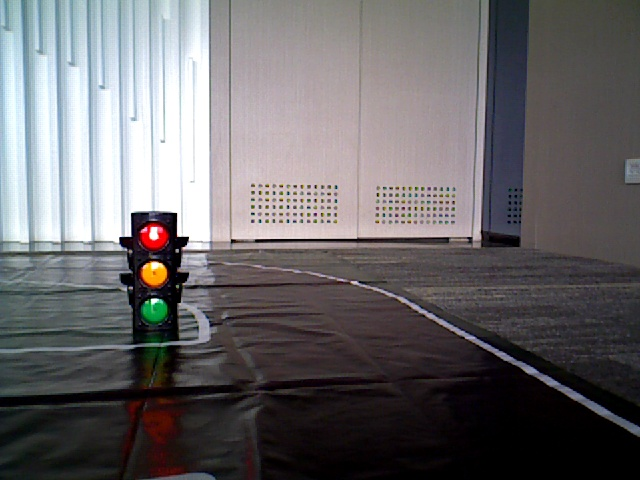red: (131, 212, 174, 328)
